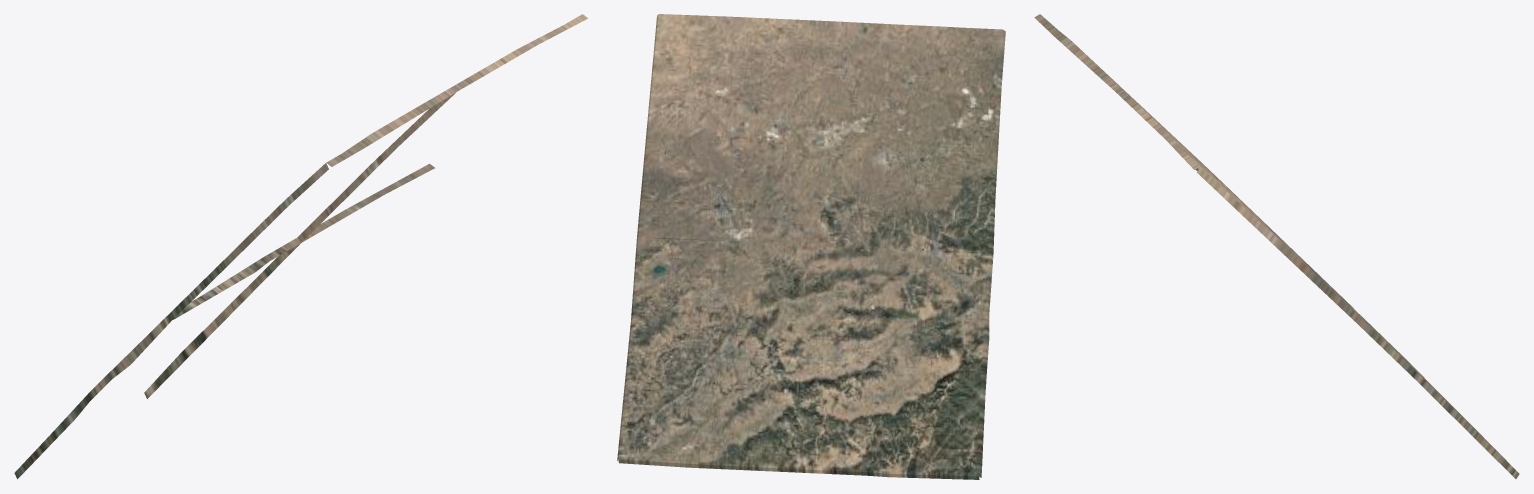
The picture shows the model from 3 angles, left to right: view 1: azimuth 30°, elevation 25°; view 2: azimuth 150°, elevation 25°; view 3: azimuth 270°, elevation 25°; orthographic projection. The views are drawn at different scales.
Size of the model in its own units: 303161 by 242062 by 286949.
1 material, 1 textured.
